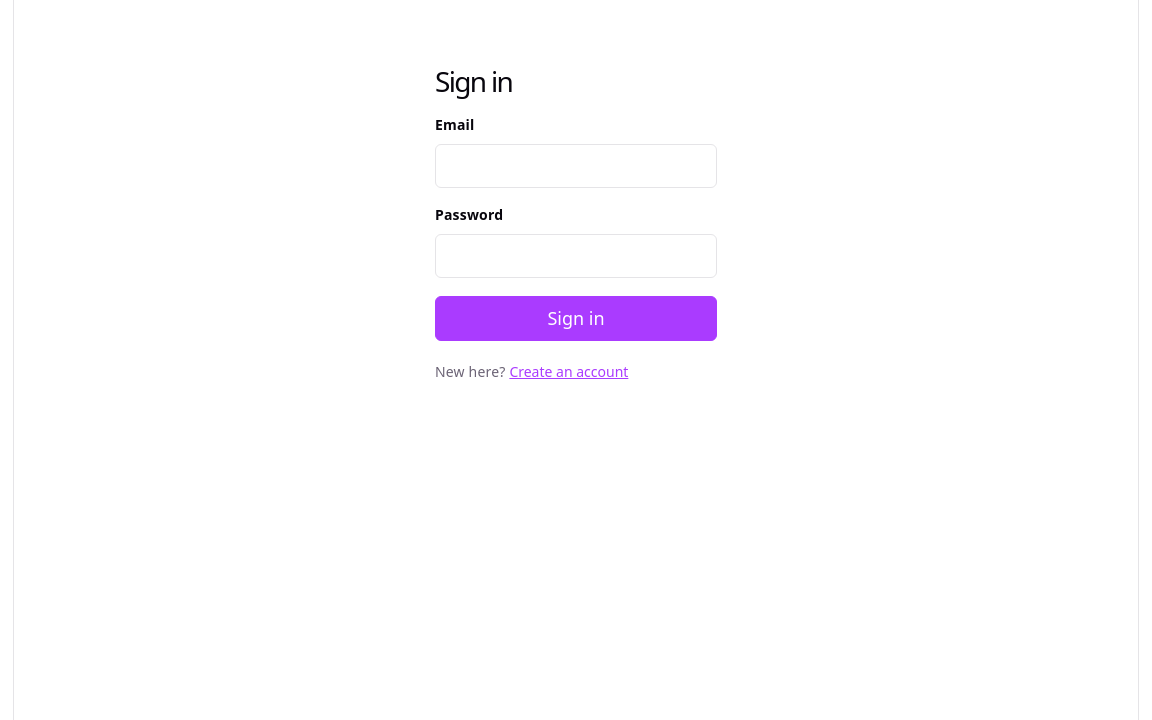
Test case: shows the reason sign-in failed and lets the user try again
Type "fan@example.com" into the field labelled "Email" at (576, 166), box 435,144 -> 717,188
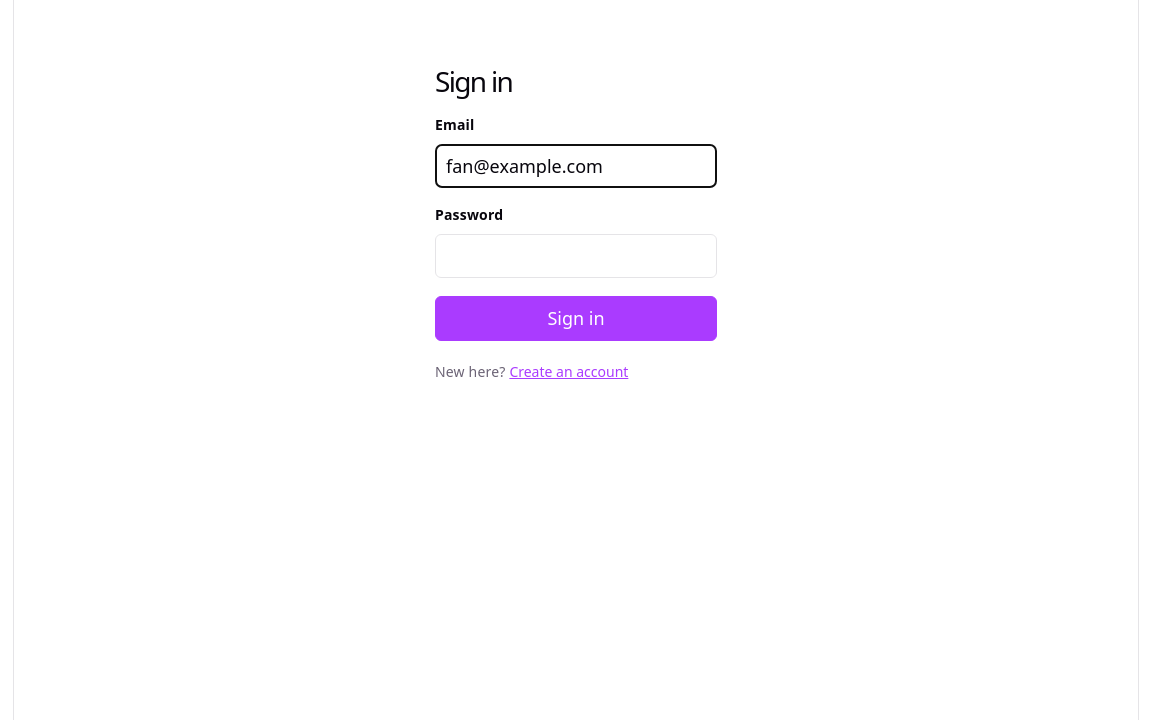
Type "wrong" into the password field labelled "Password" at (576, 256), box 435,234 -> 717,278
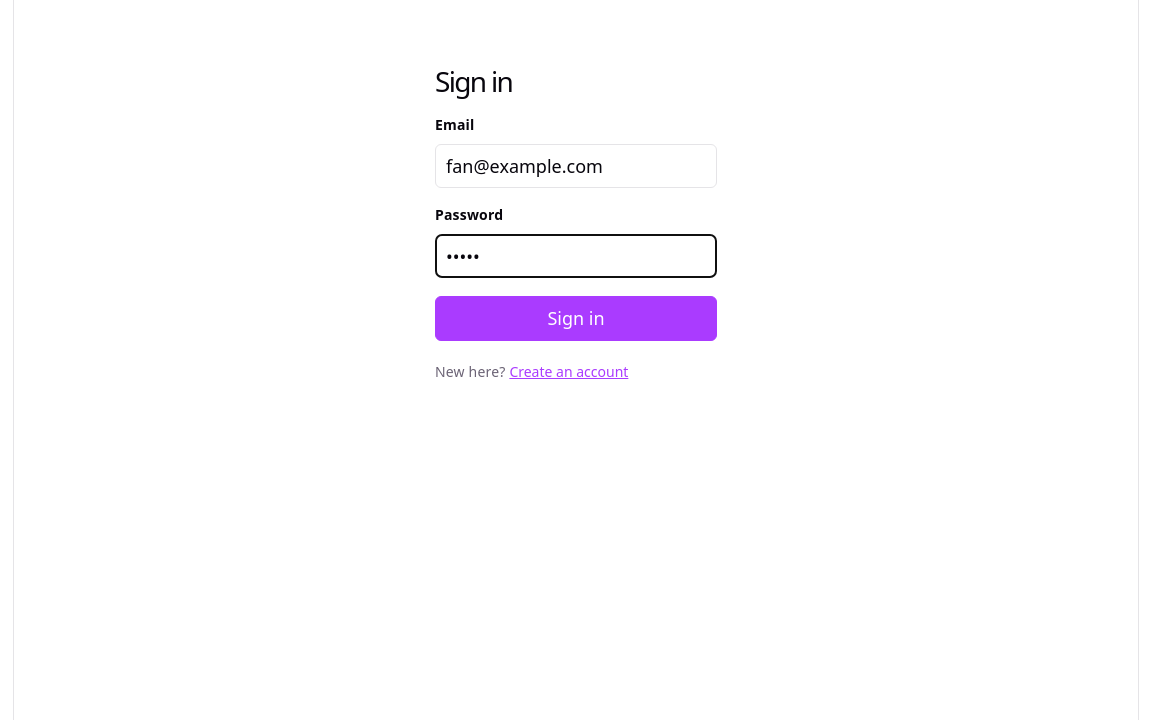
Click the button "Sign in" at (576, 319), box 435,296 -> 717,341
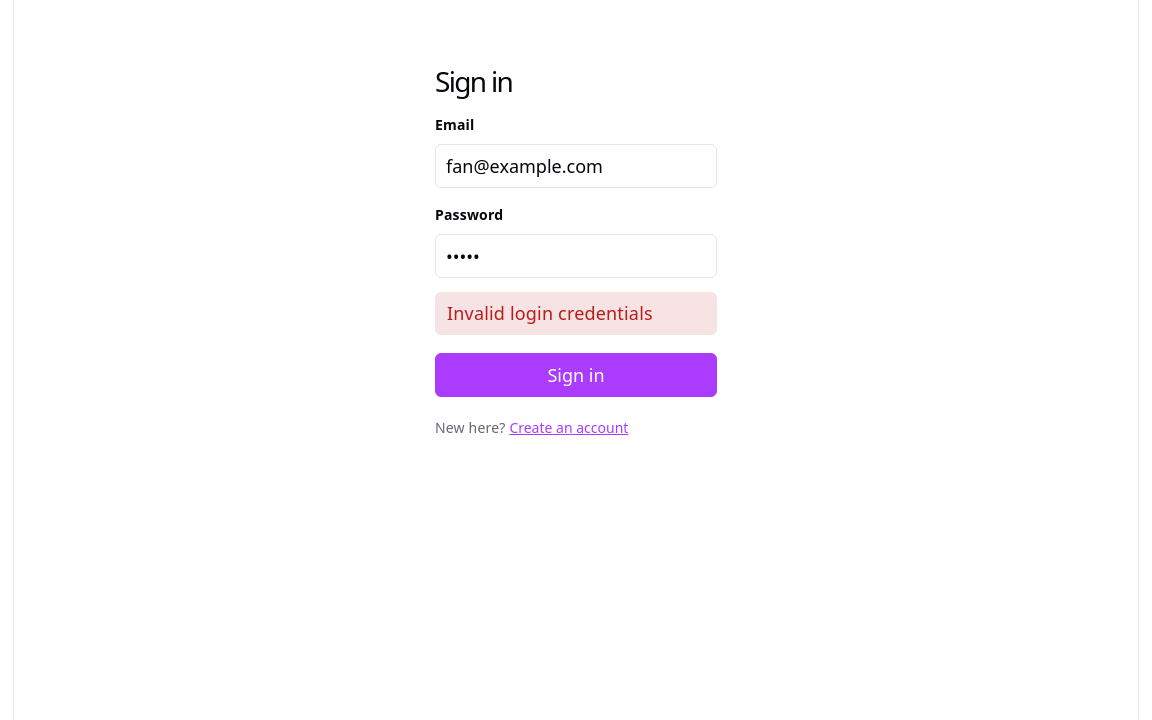
Check: the button "Sign in" is enabled, box 435,353 -> 717,397
Check: the message reads "Invalid login credentials", box 447,302 -> 653,326
